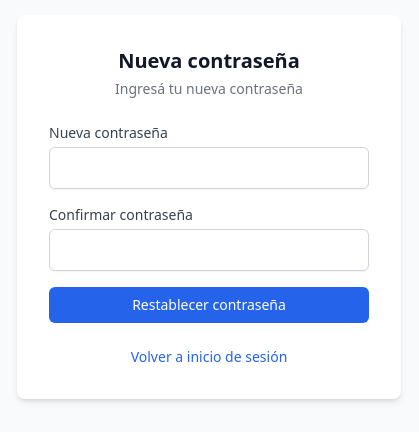
Scenario: ResetPasswordPage › muestra error si las contraseñas no coinciden
Type "newpassword123" into the password field labelled "Nueva contraseña" at {"x": 209, "y": 168}, box [49,147,369,189]
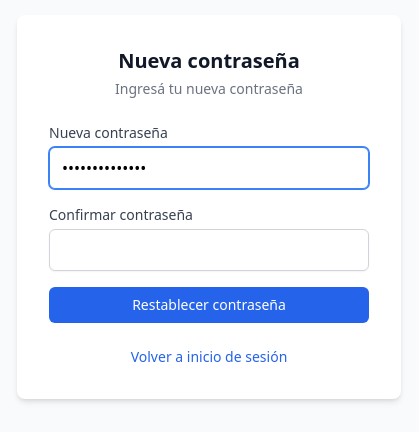
Type "differentpassword" into the password field labelled "Confirmar contraseña" at {"x": 209, "y": 250}, box [49,229,369,271]
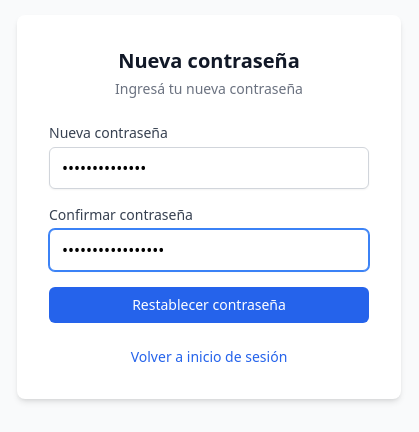
Click the button "Restablecer contraseña" at {"x": 209, "y": 305}, box [49,287,369,323]
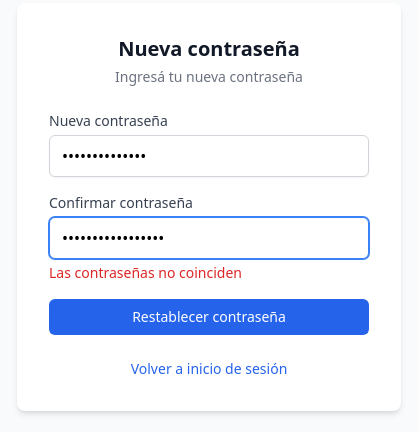
Check: the text "Las contraseñas no coinciden" is shown, box [49,263,242,282]
